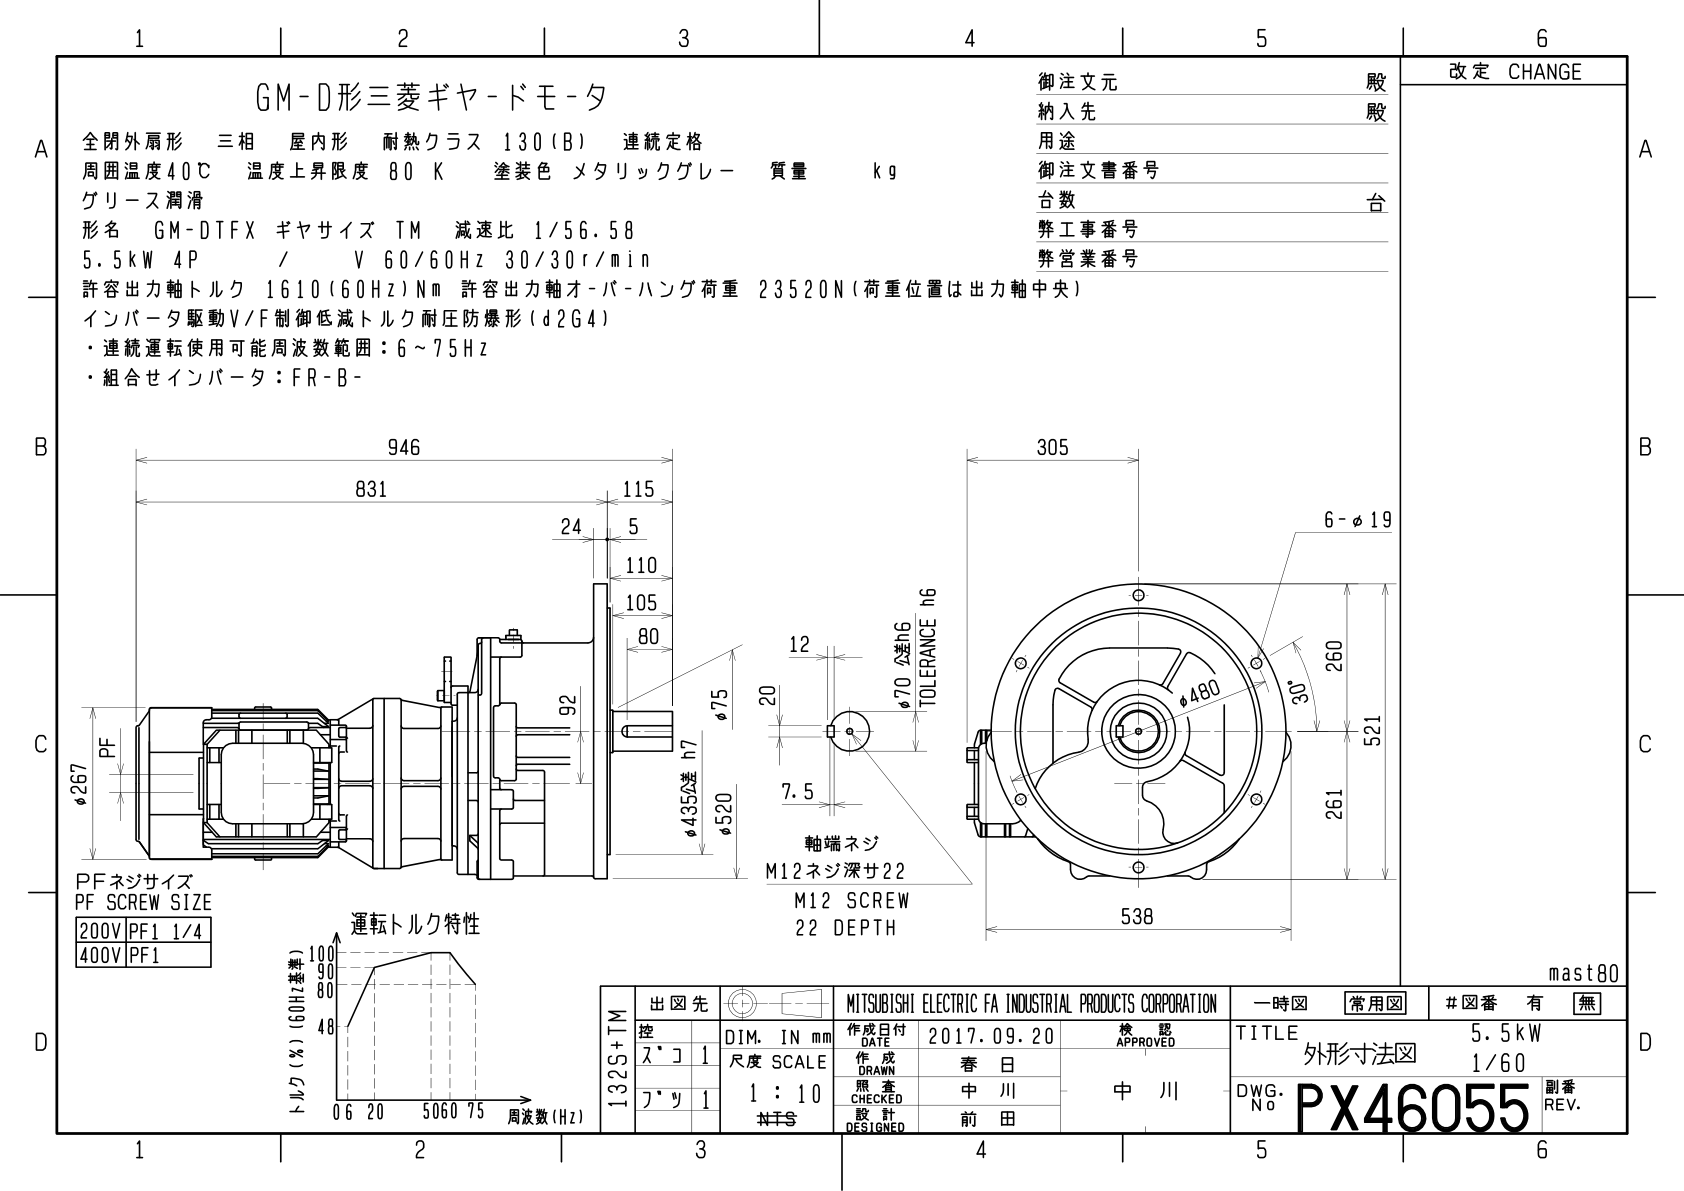GM_D_VF制御屋内_三相_フランジ: (13, 14, 1684, 1191)
